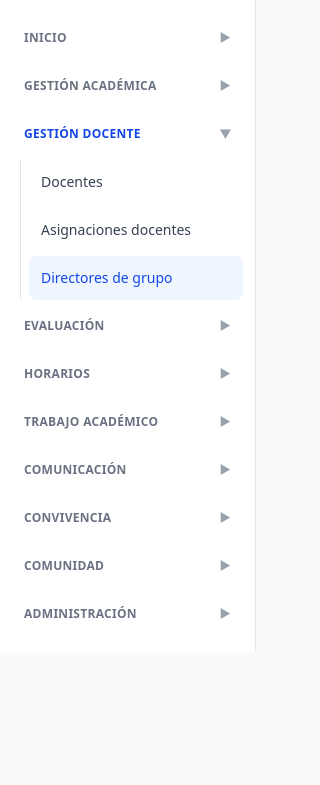
Scenario: Sidebar por categorias › admin ve categorias administrativas y gestion academica/docente
This screenshot has width=320, height=785.
Check: the button with aria-label "Categoría Gestión académica" is shown, box [12,64,243,108]
Check: the button with aria-label "Categoría Gestión docente" is shown, box [12,112,243,156]
Click the button with aria-label "Categoría Administración" at (128, 614), box [12,592,243,636]
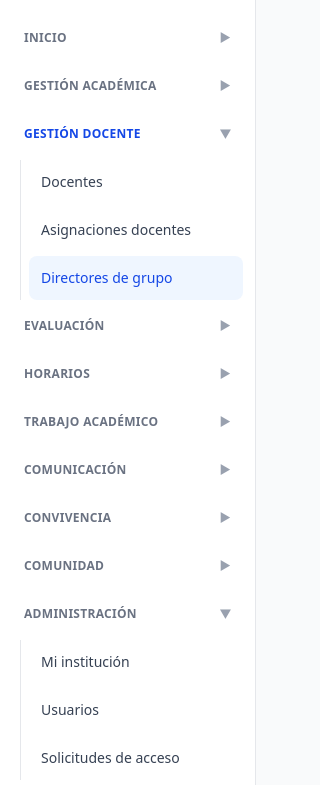
Check: the link "Usuarios" is shown, box [41,700,99,719]
Click the button with aria-label "Categoría Gestión académica" at (128, 86), box [12,64,243,108]
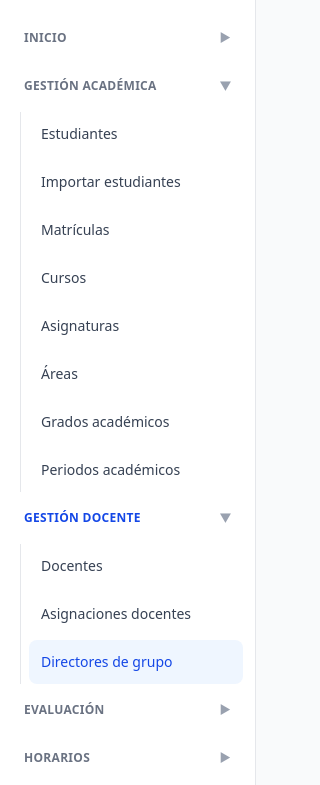
Check: the link "Estudiantes" is shown, box [41,124,118,143]
